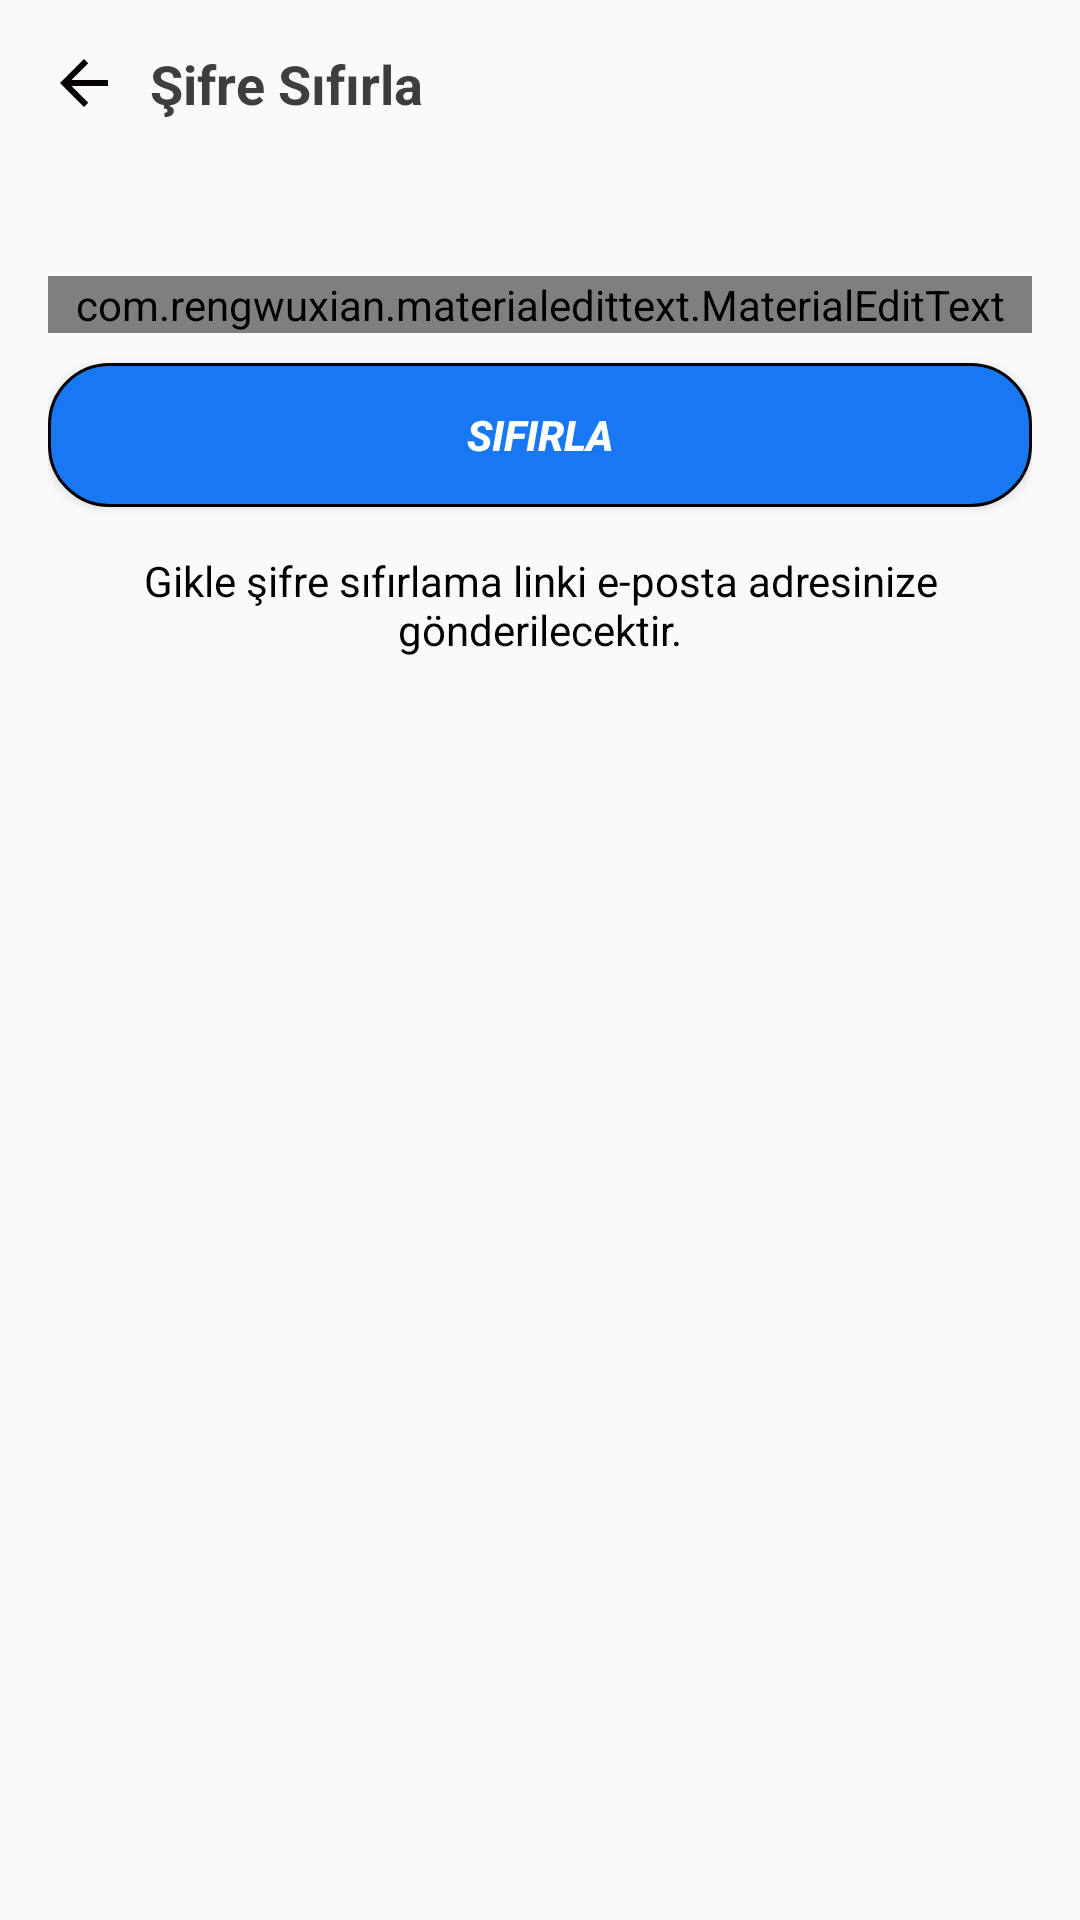

Where icons sit on this 1080px x 1920px app screen, as [x1,y1,x2,y2]:
geri: [60,59,108,107]
